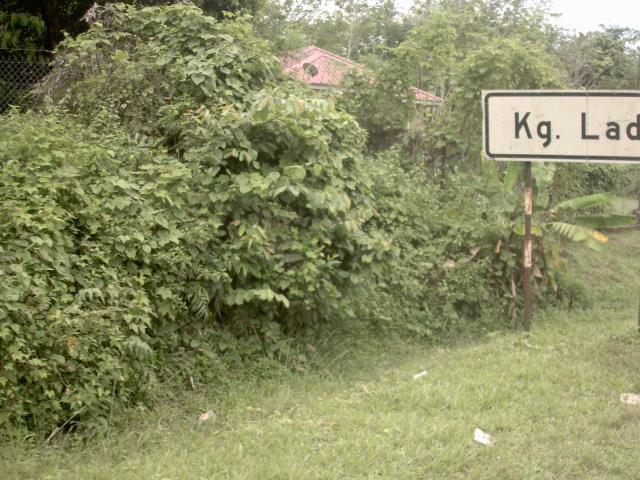ads_sign: (471, 75, 639, 179)
